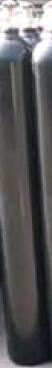cylinder: (0, 1, 52, 368)
